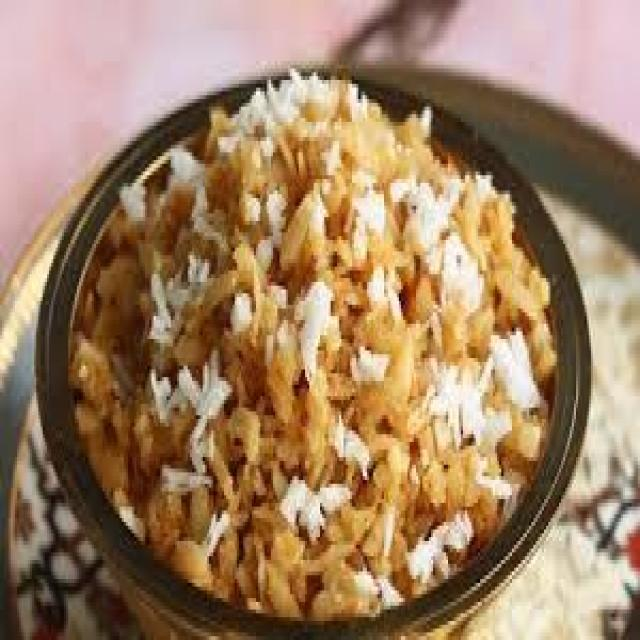POHA: (70, 72, 555, 617)
